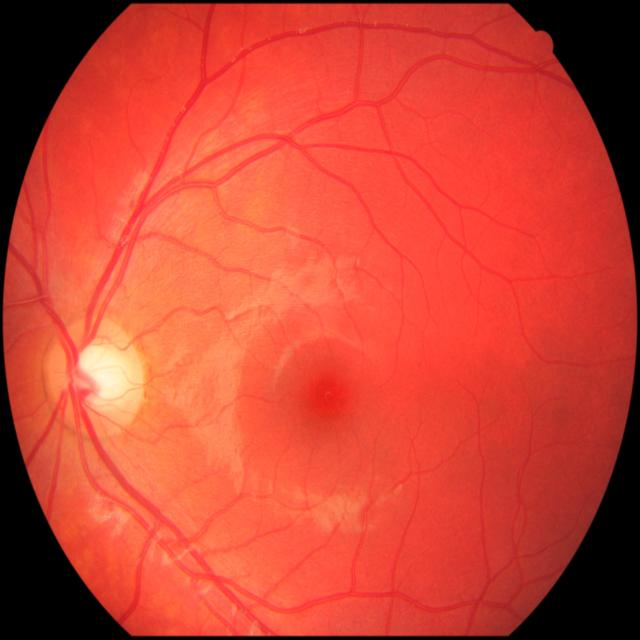OC: (77, 346, 127, 404)
OD: (41, 318, 144, 441)
